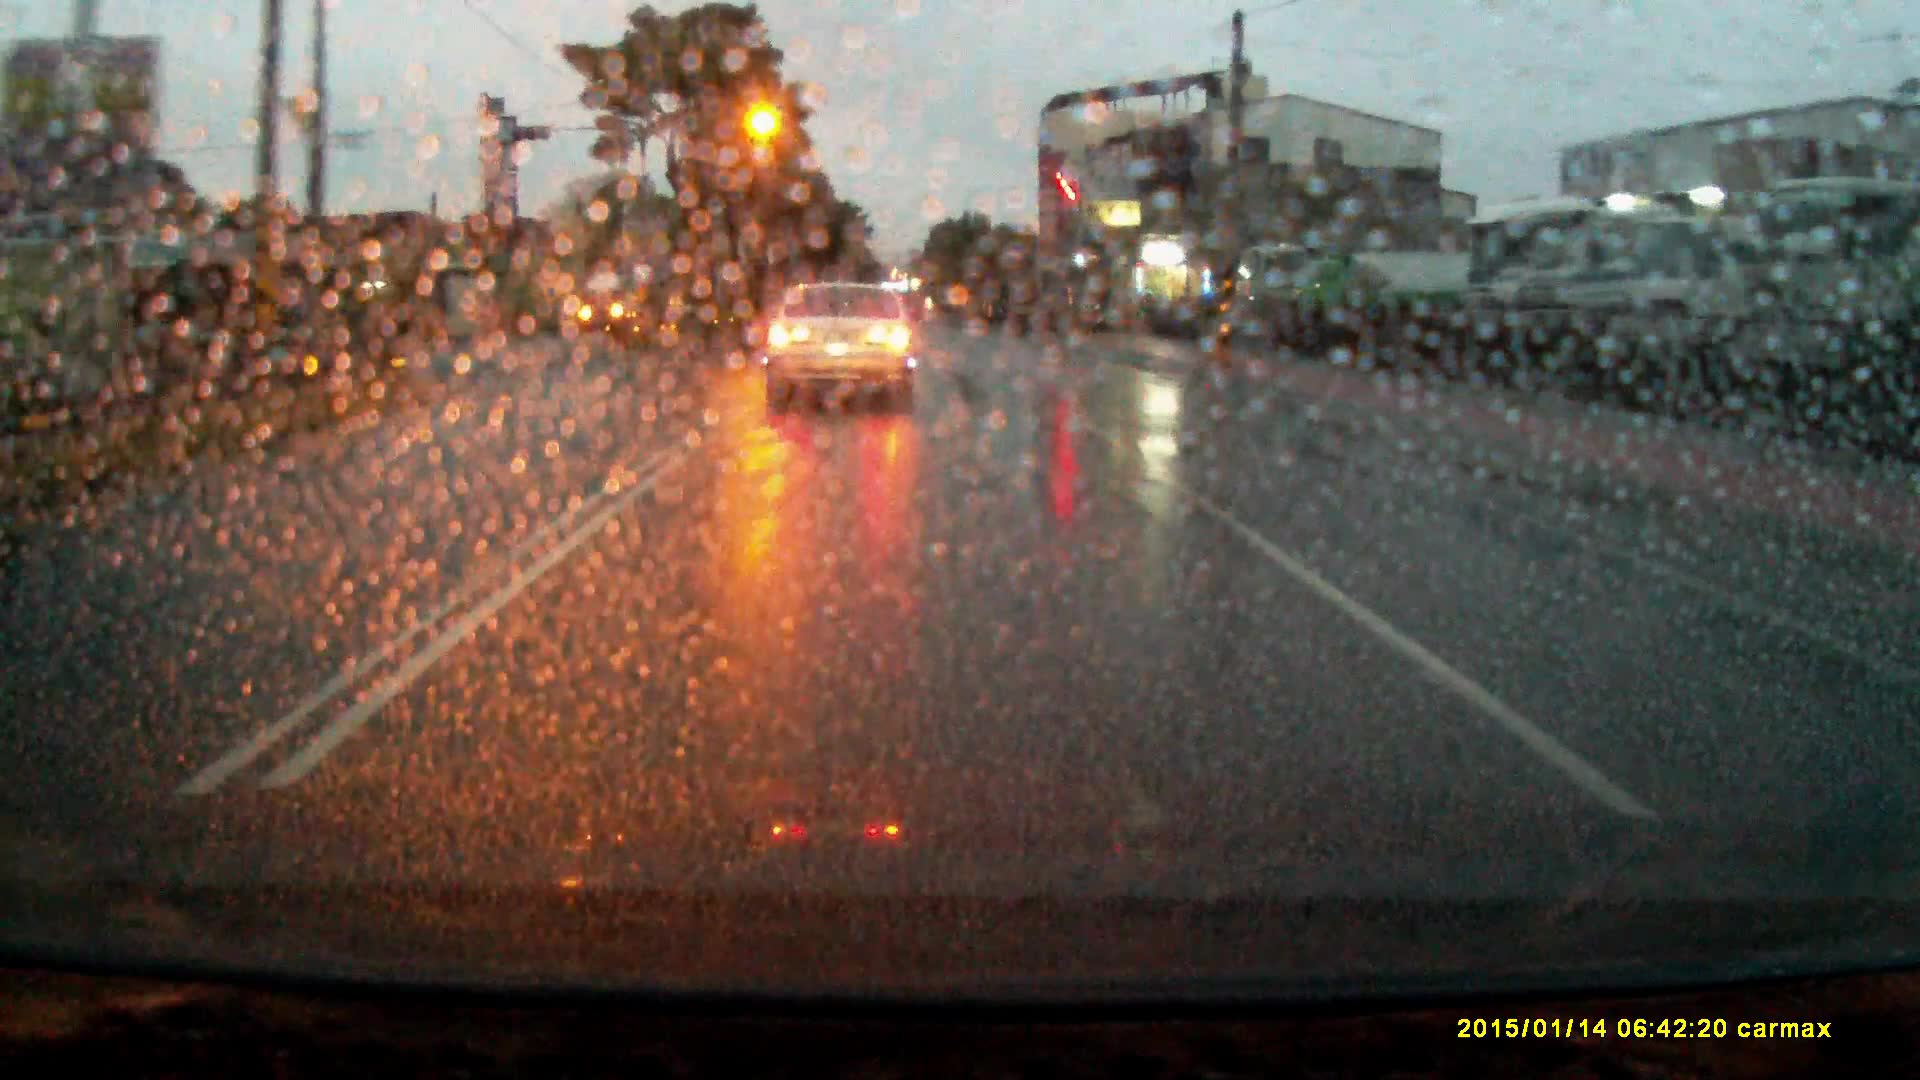vehicle: (1731, 178, 1898, 415), (1590, 218, 1759, 405), (1465, 200, 1590, 371), (764, 281, 922, 413), (1288, 251, 1473, 338), (1237, 241, 1313, 331), (580, 277, 638, 328)
